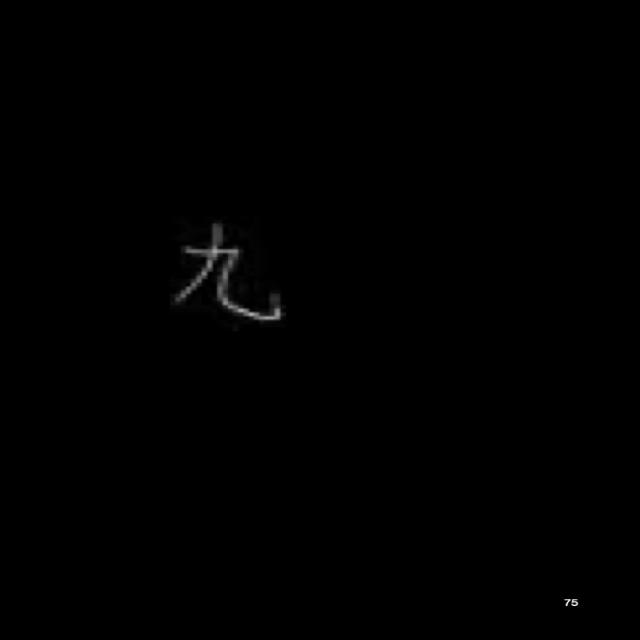9 -nine-: (159, 214, 288, 330)
